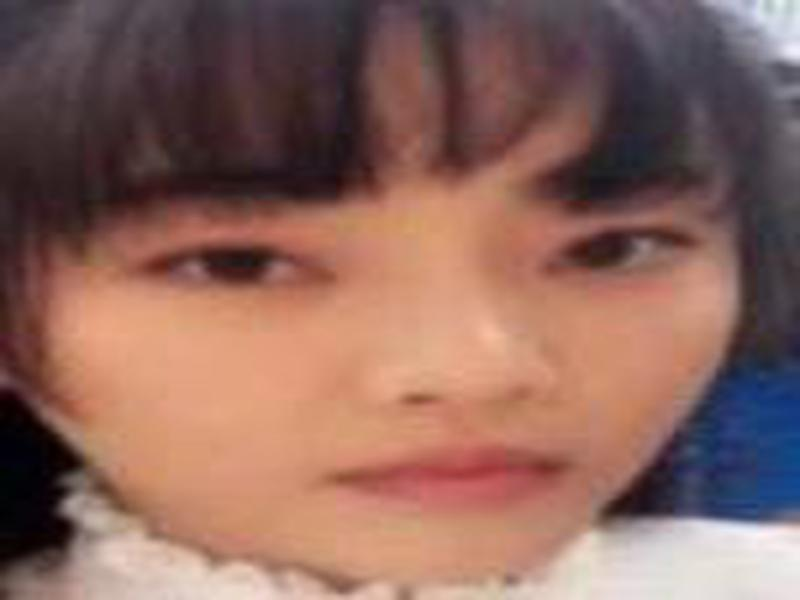without_mask: (11, 131, 748, 588)
